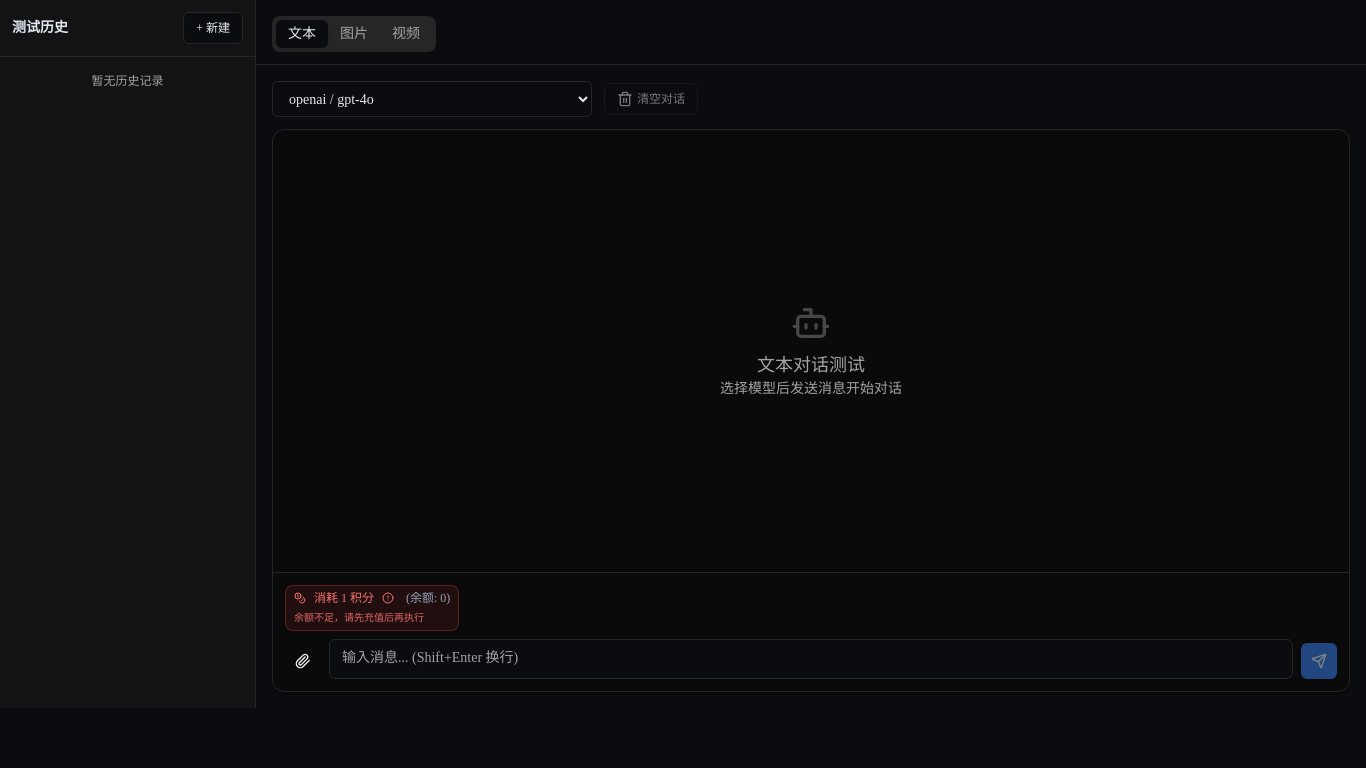
Test: TextPanel › Stop generation (Req 15.4) › aborts streaming when stop button is clicked
In the text box with test id "text-input": coordinates (811, 659) [329,639,1293,679], type "Test"
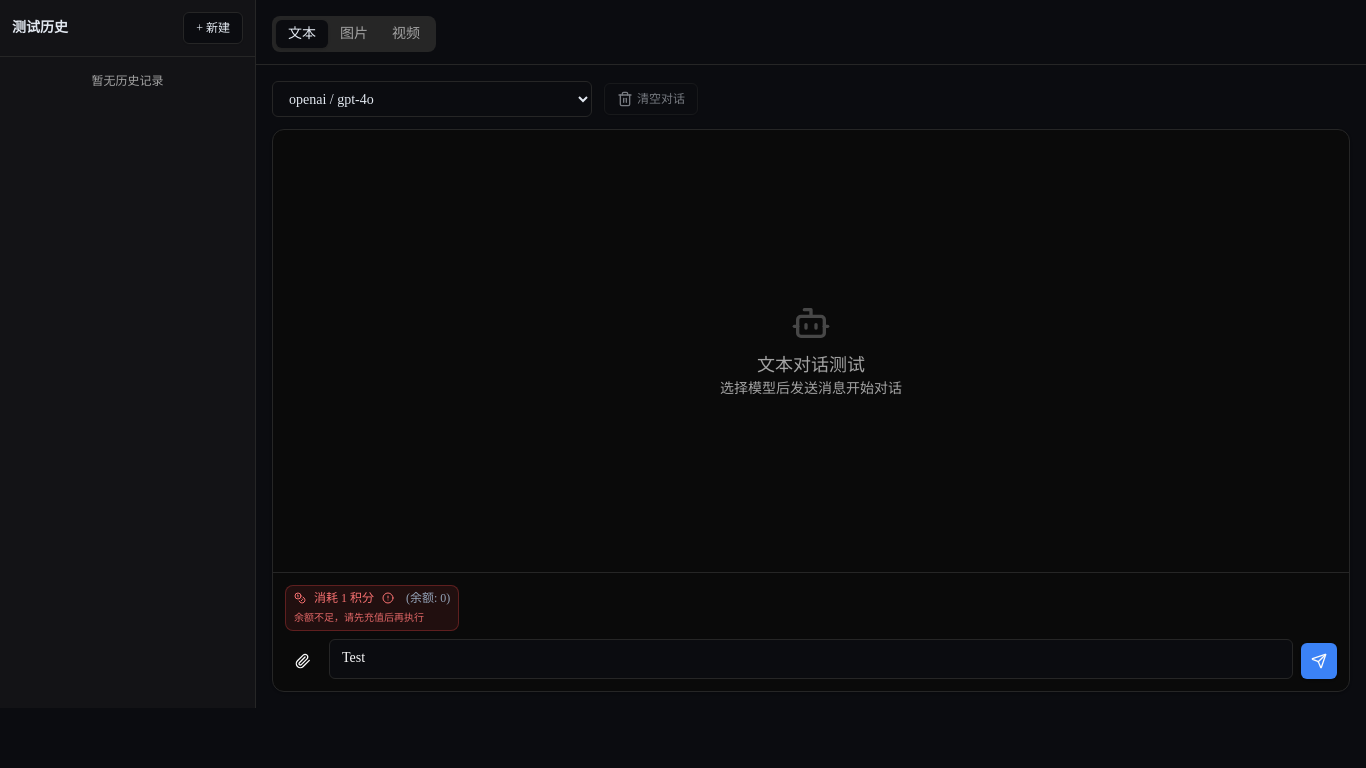
Click the button with test id "text-send-btn": coordinates (1319, 661) [1301,643,1337,679]
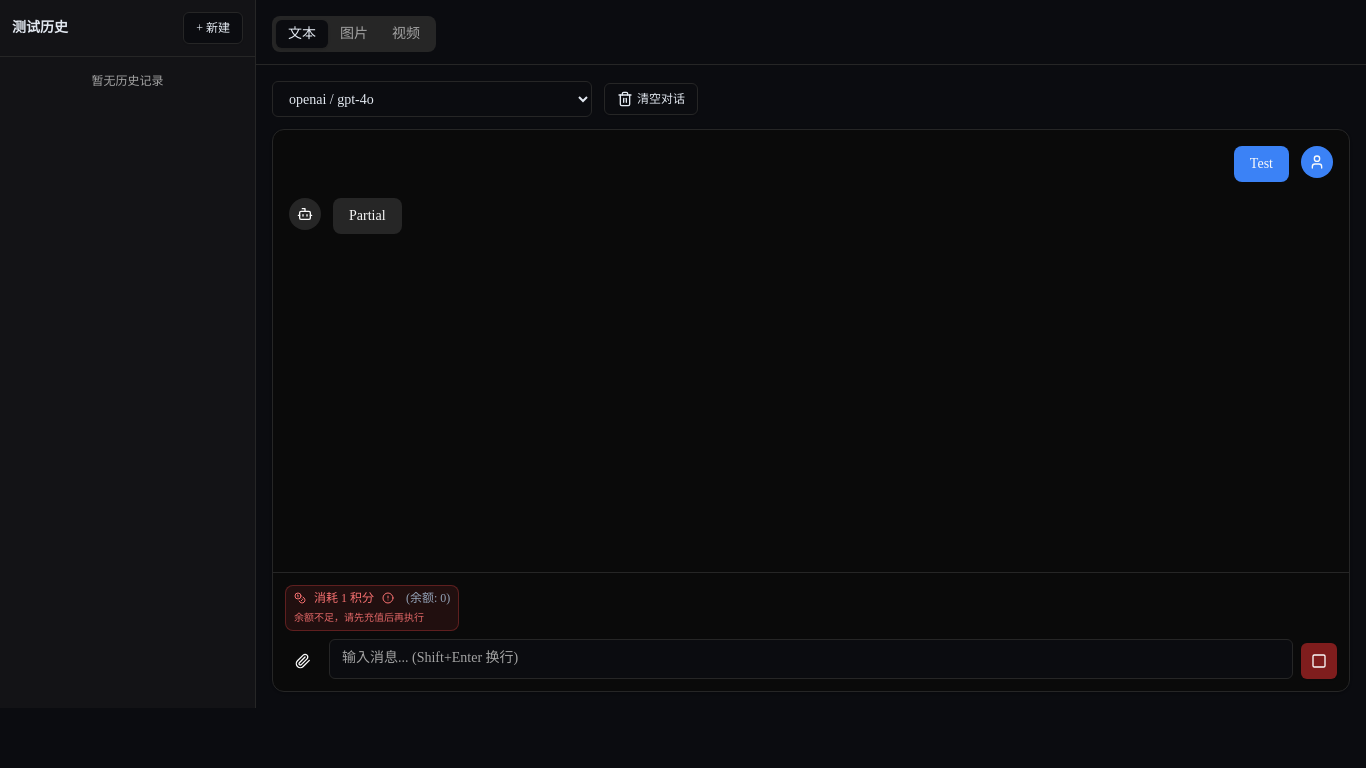
Check: the button with test id "text-stop-btn" is shown
Click stop
Click the button with test id "text-stop-btn": coordinates (1319, 661) [1301,643,1337,679]
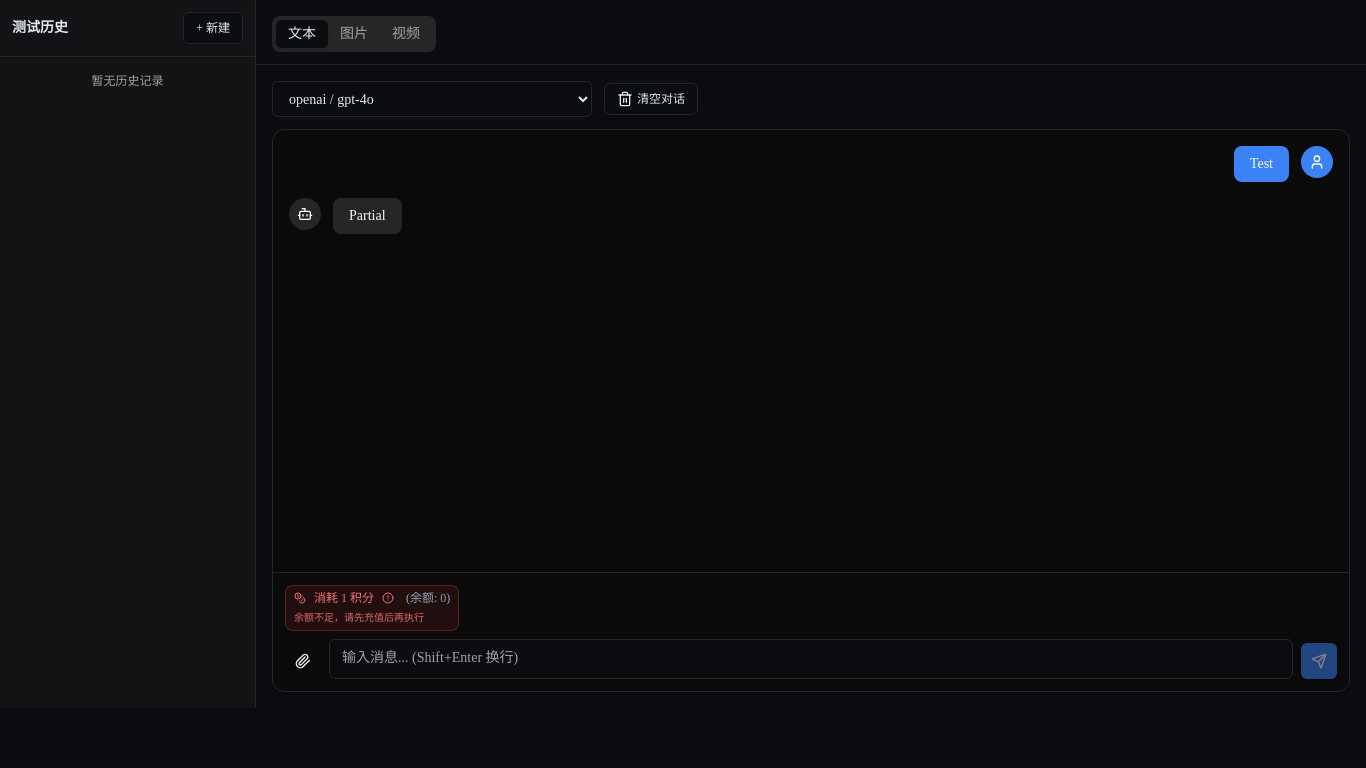
Check: the button with test id "text-send-btn" is shown, box [1301,643,1337,679]
